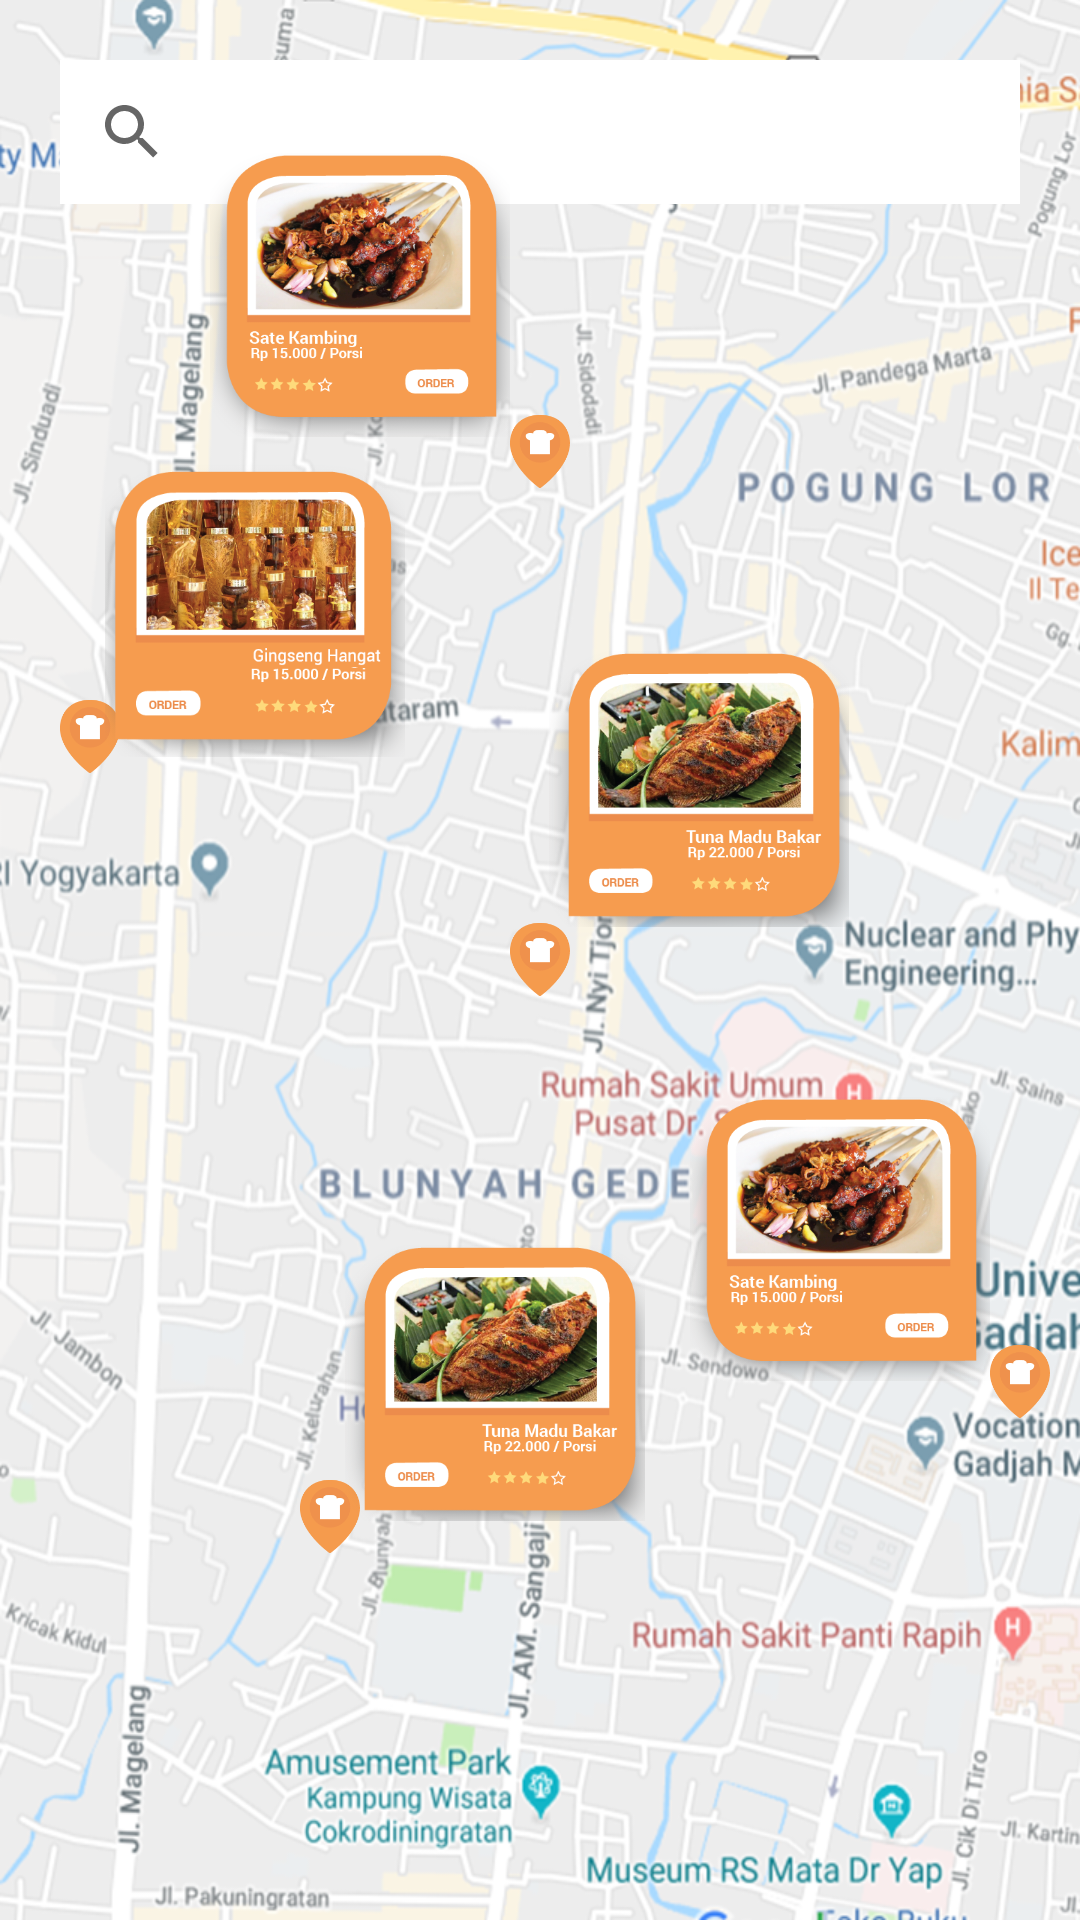

Icons on this 1080px x 1920px Android screen, each with the point to tap as [x,y]:
point: [540,451], [90,736], [540,959], [1020,1381], [330,1516]
